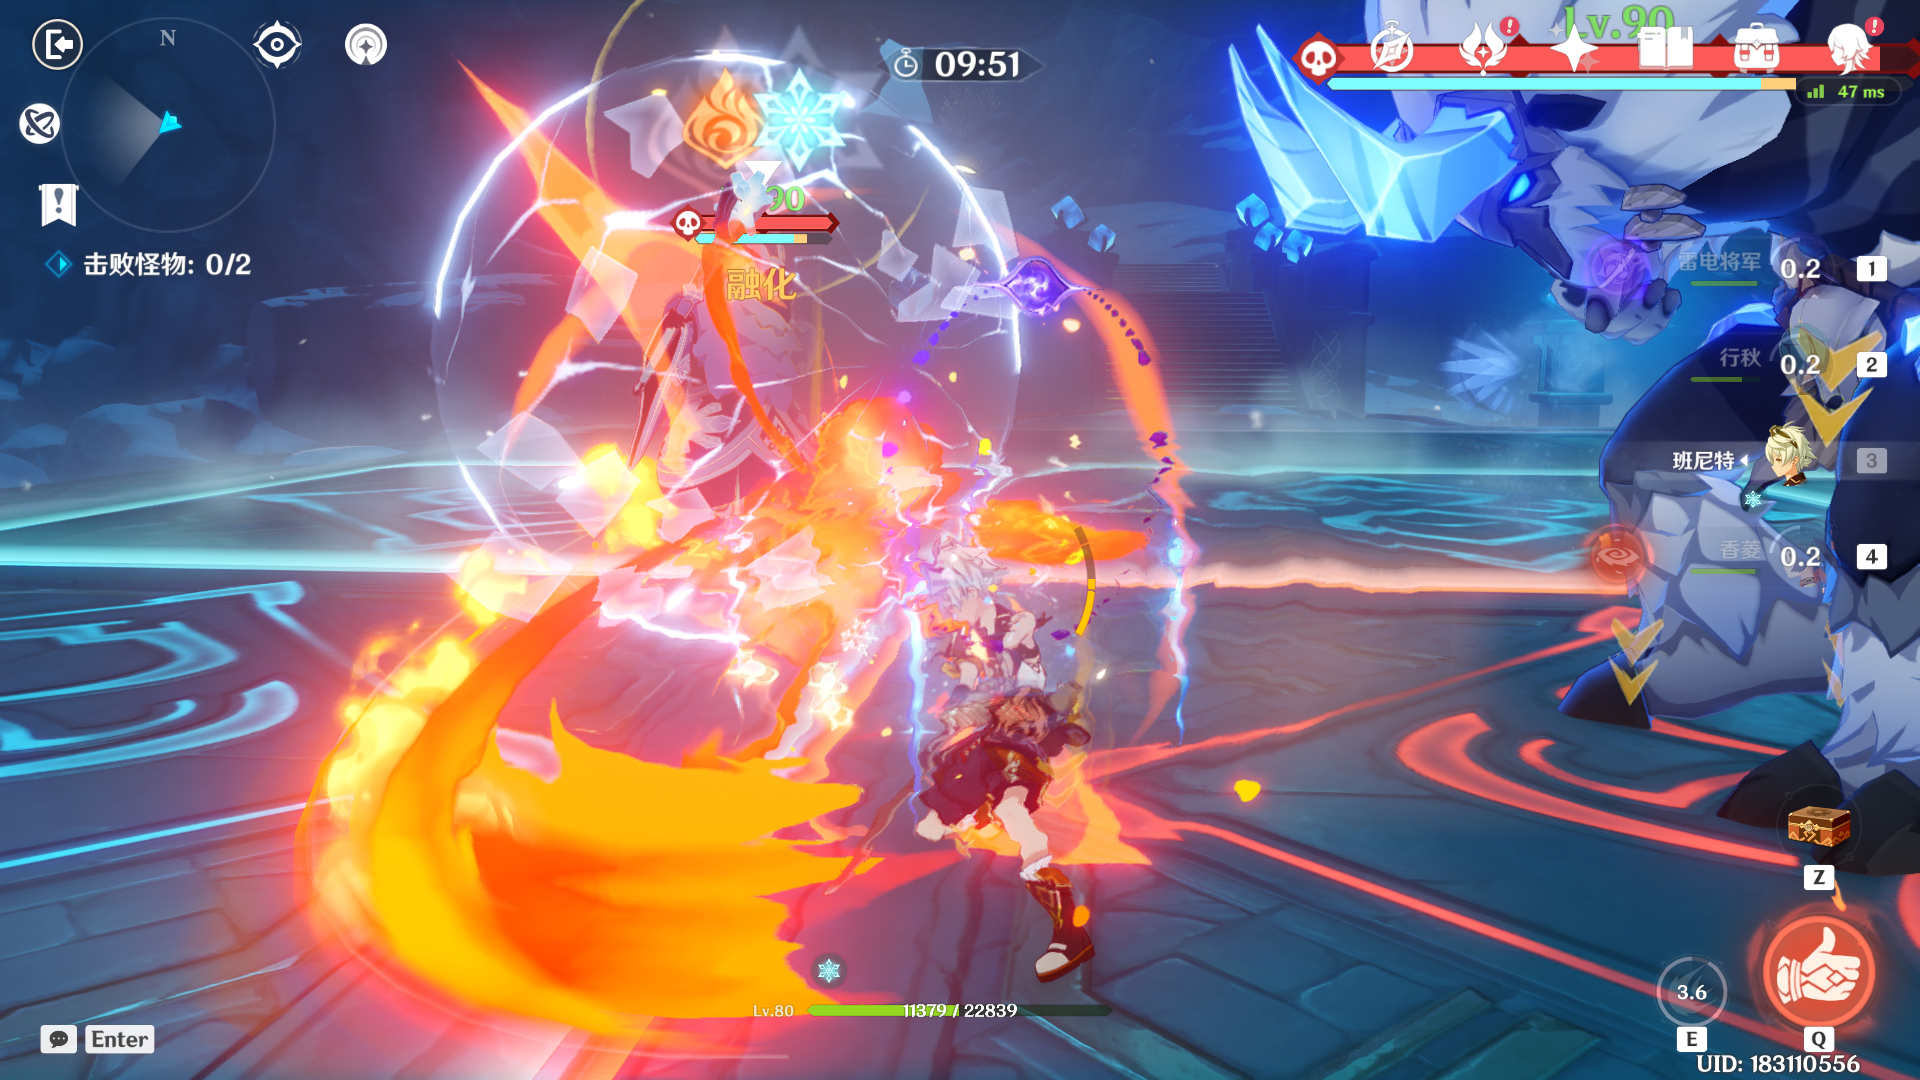bosshili: (1203, 3, 1920, 880)
caster: (568, 175, 894, 607)
character: (887, 502, 1156, 998)
